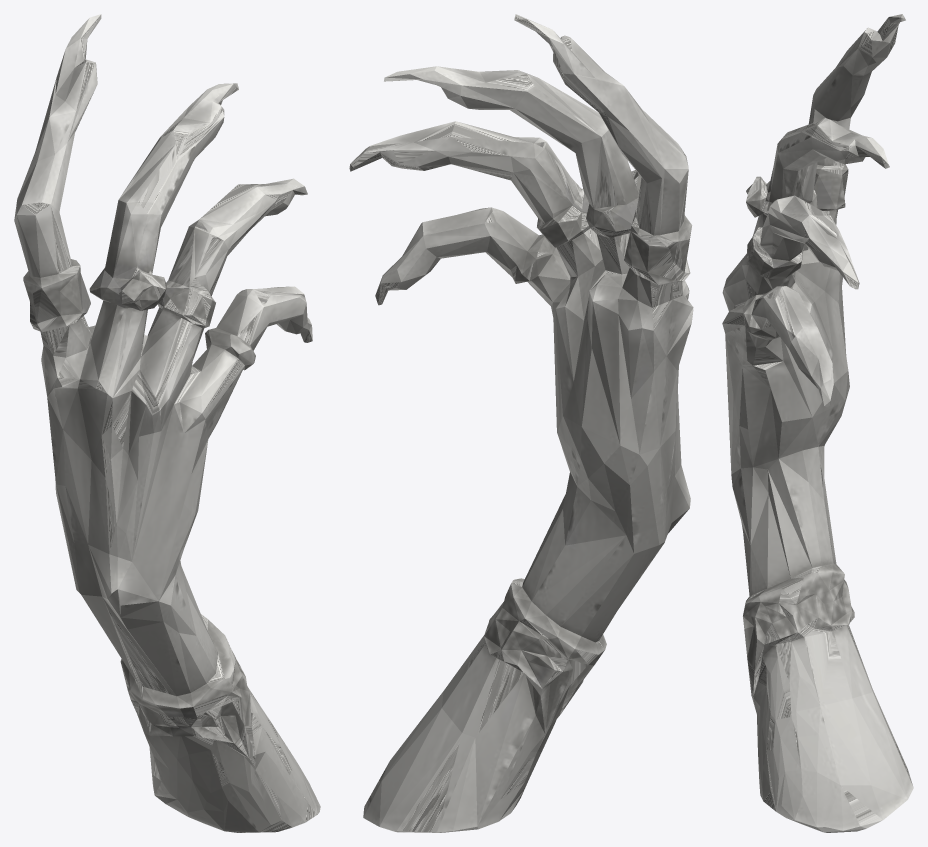
Rendered from watcher_hand.glb.
3 renders of one model, left to right at view 1: azimuth 30°, elevation 25°; view 2: azimuth 150°, elevation 25°; view 3: azimuth 270°, elevation 25°, orthographic. The views are drawn at different scales.
Parts seen in each view (by area): view 1: watcher_hand; view 2: watcher_hand; view 3: watcher_hand.
Part boxes in pixels (x1,y1,x2,y2): watcher_hand: [14, 14, 320, 832]; watcher_hand: [349, 14, 693, 832]; watcher_hand: [722, 14, 913, 832].
Size of the model in its own units: 0.3196 by 0.807 by 0.1892.
1 material, 1 textured.
